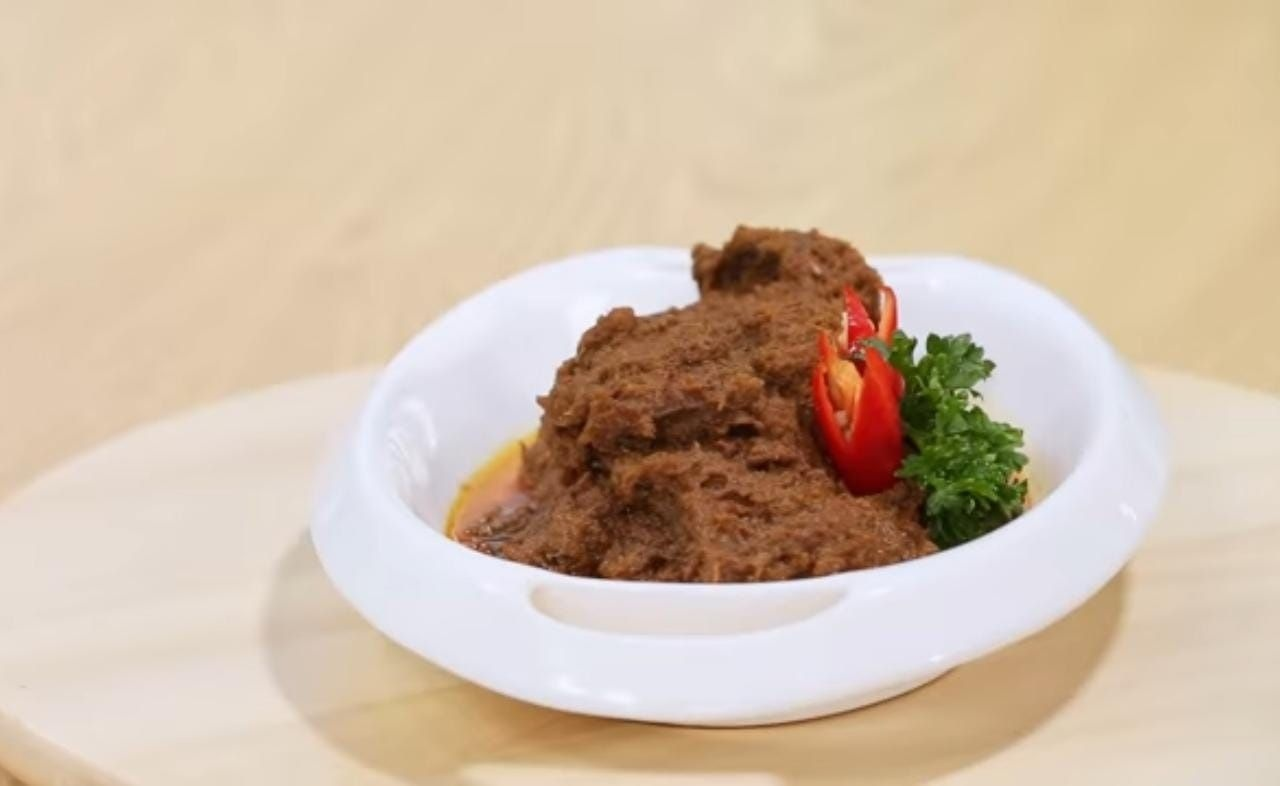rendang: (461, 212, 925, 584)
